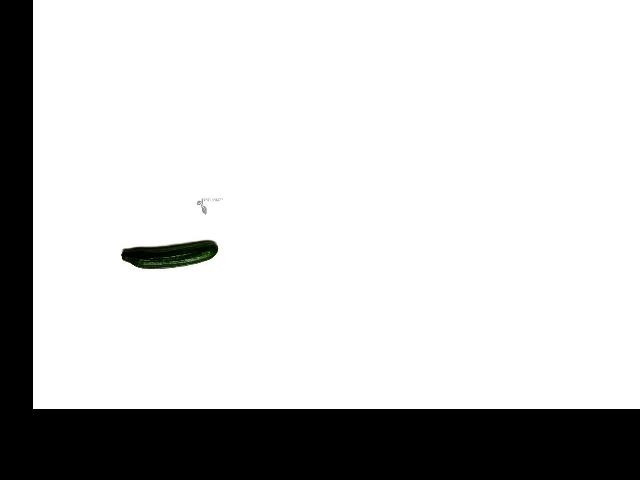cucumber: (121, 241, 218, 268)
